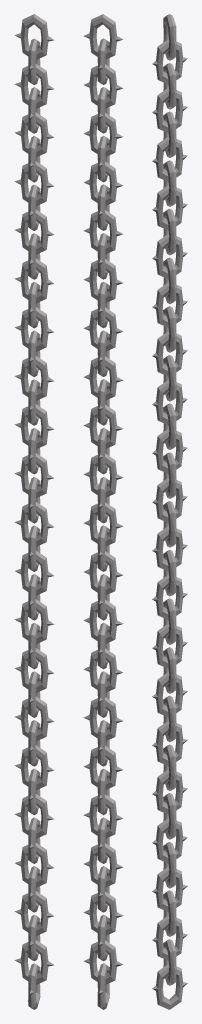
The model's file is ChainLengthMedium.fbx.
3 renders of one model, left to right at view 1: azimuth 30°, elevation 25°; view 2: azimuth 210°, elevation 25°; view 3: azimuth 330°, elevation 25°, orthographic.
Parts seen in each view (by area): view 1: ChainLengthMedium; view 2: ChainLengthMedium; view 3: ChainLengthMedium.
Part boxes in pixels (x1=…): ChainLengthMedium: x1=14, y1=14, x2=54, y2=1009; ChainLengthMedium: x1=83, y1=14, x2=123, y2=1009; ChainLengthMedium: x1=152, y1=14, x2=187, y2=1009.
Size of the model in its own units: 9.08 by 332 by 8.65.
